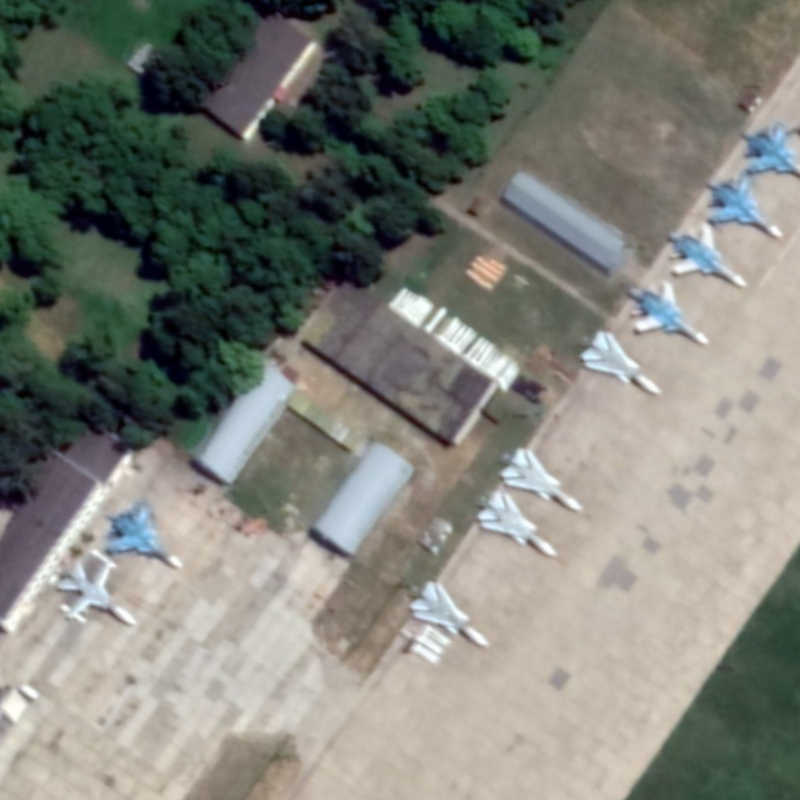A19: (102, 499, 186, 570), (703, 170, 786, 241), (627, 279, 713, 347), (666, 221, 750, 289), (739, 119, 800, 180)
A20: (475, 489, 561, 559), (406, 579, 492, 649), (578, 328, 664, 397), (498, 446, 585, 513), (56, 560, 140, 627)
